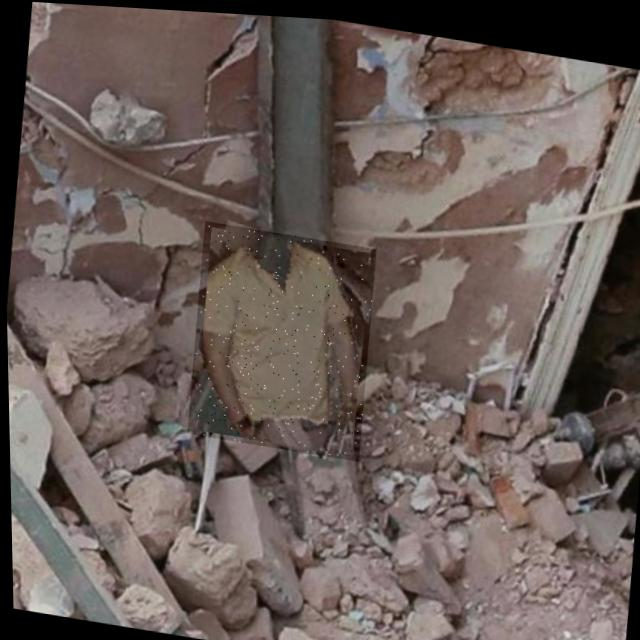Person in Rubble: (181, 217, 379, 458)
